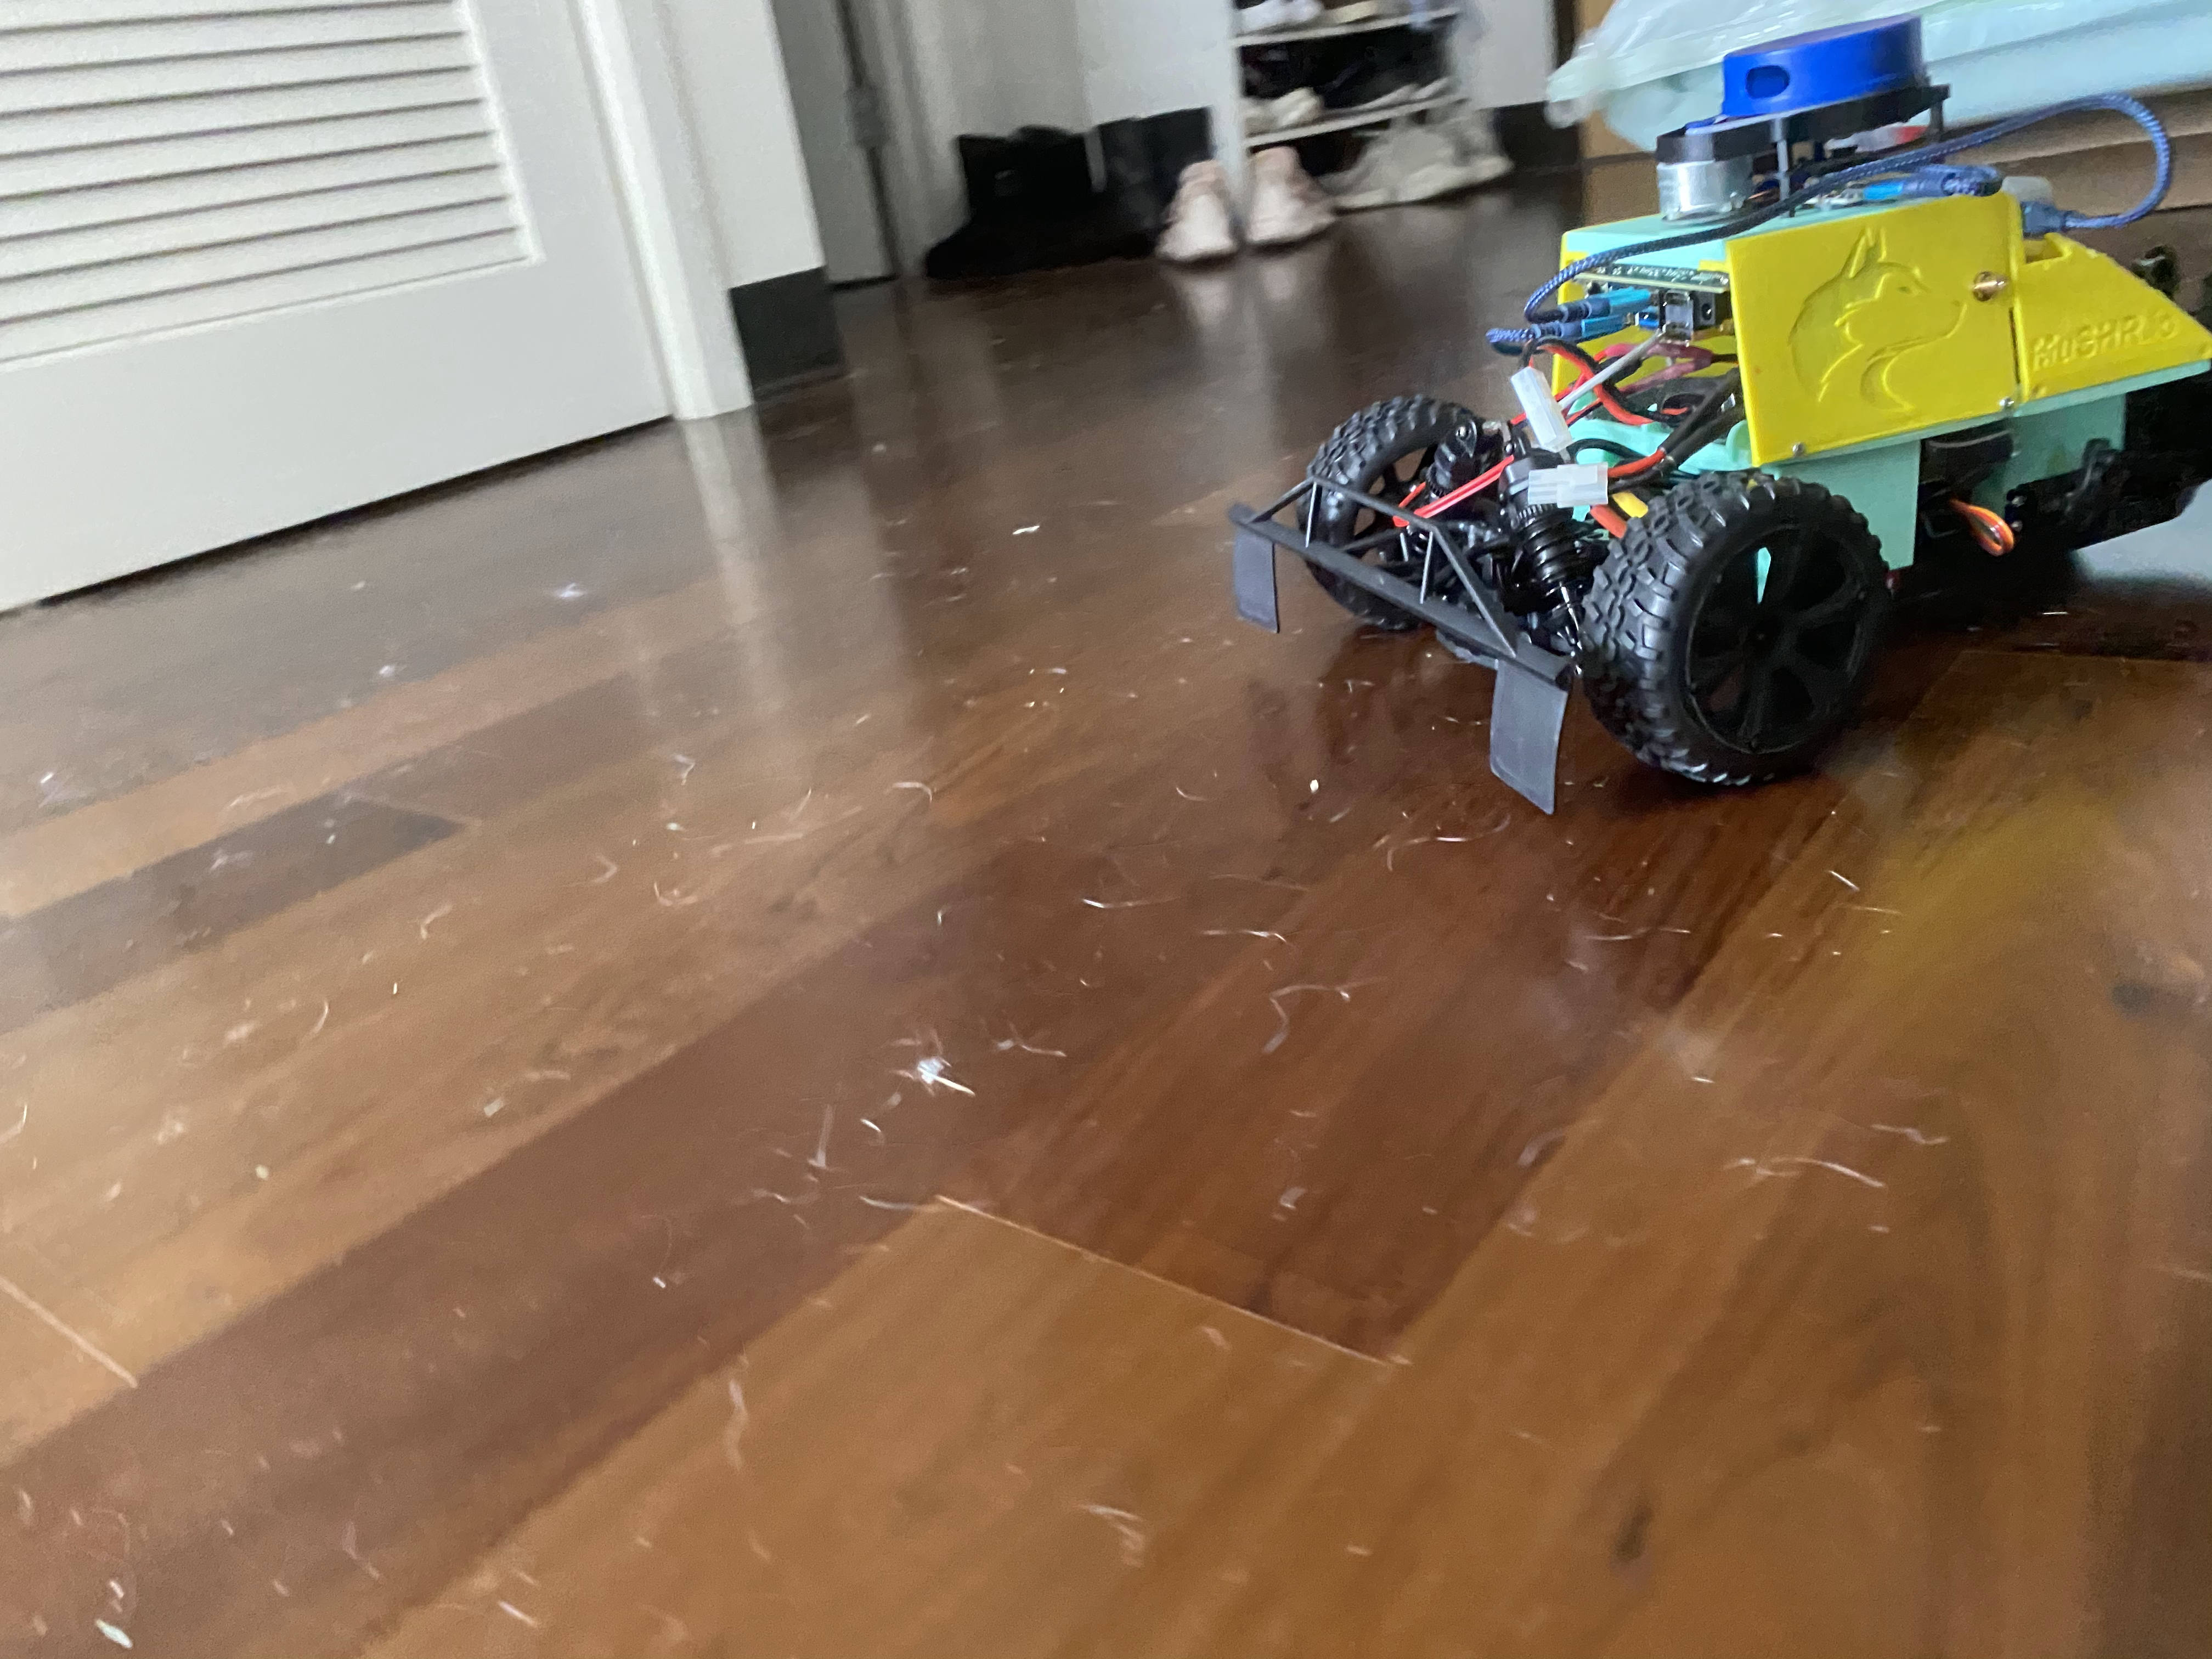mushr_car: (1179, 28, 2212, 805)
